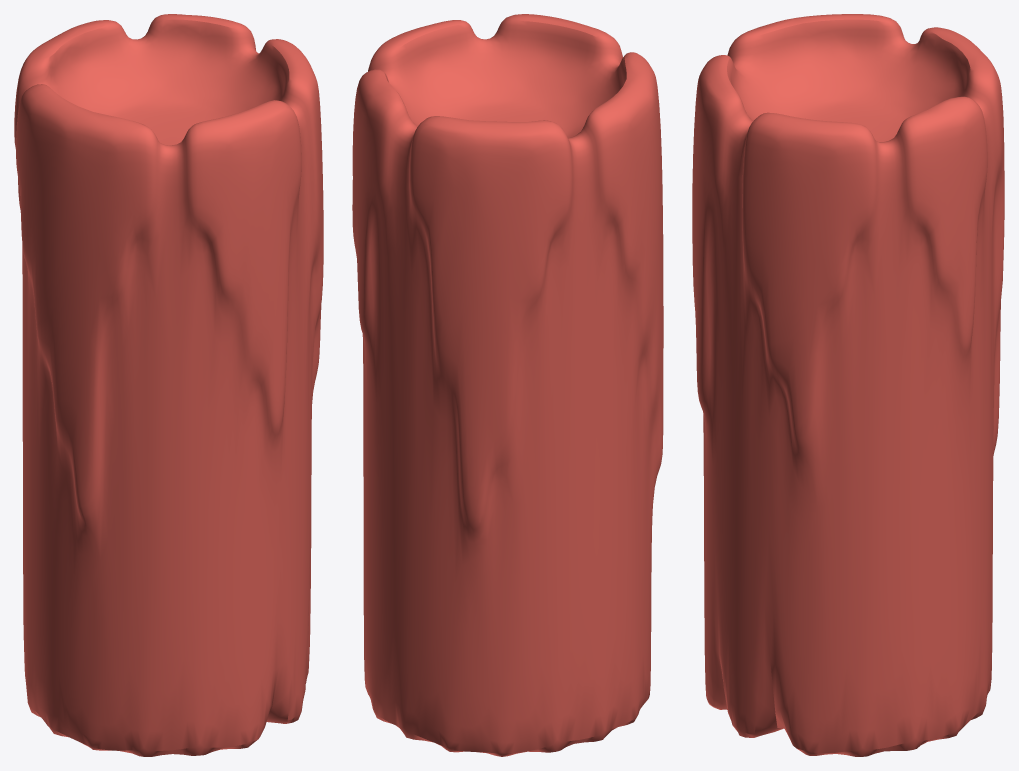
File: CANDLE.fbx
The picture shows the model from 3 angles, left to right: view 1: azimuth 30°, elevation 25°; view 2: azimuth 150°, elevation 25°; view 3: azimuth 270°, elevation 25°; orthographic projection.
Parts seen in each view (by area): view 1: candle; view 2: candle; view 3: candle.
Part boxes in pixels (x1,y1,x2,y2): candle: (14,14,323,756); candle: (352,14,663,756); candle: (692,14,1004,756).
Size of the model in its own units: 20.35 by 45.6 by 20.35.
